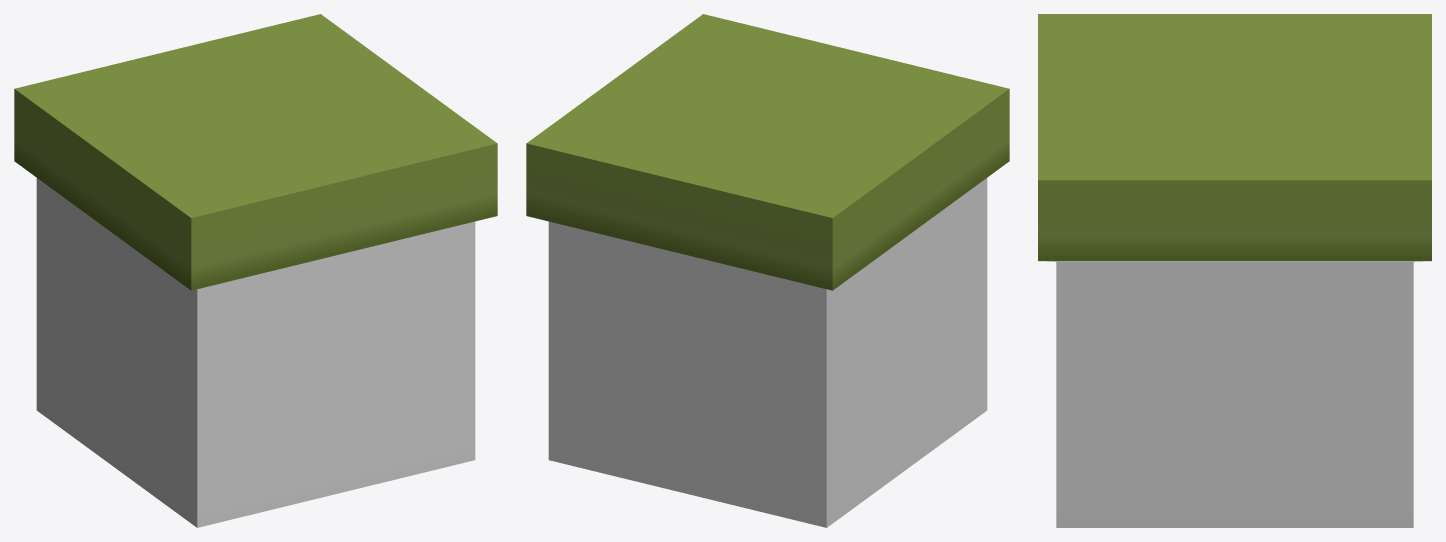
File: SoloIlha_verde.glb
3 renders of one model, left to right at view 1: azimuth 30°, elevation 25°; view 2: azimuth 150°, elevation 25°; view 3: azimuth 270°, elevation 25°, orthographic. The views are drawn at different scales.
Parts seen in each view (by area): view 1: SoloIlha_verde; view 2: SoloIlha_verde; view 3: SoloIlha_verde.
Boxes of the visible parts, <box> form: SoloIlha_verde: <box>14,14,497,527</box>; SoloIlha_verde: <box>526,14,1009,527</box>; SoloIlha_verde: <box>1038,14,1431,527</box>.
Bounding box in the file's own units: 2 × 1.99 × 2.
1 material, 1 textured.
